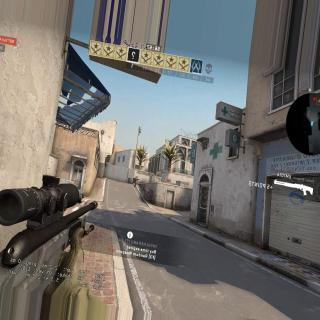T-Body: (134, 175, 138, 187)
T-Head: (136, 175, 138, 178)
